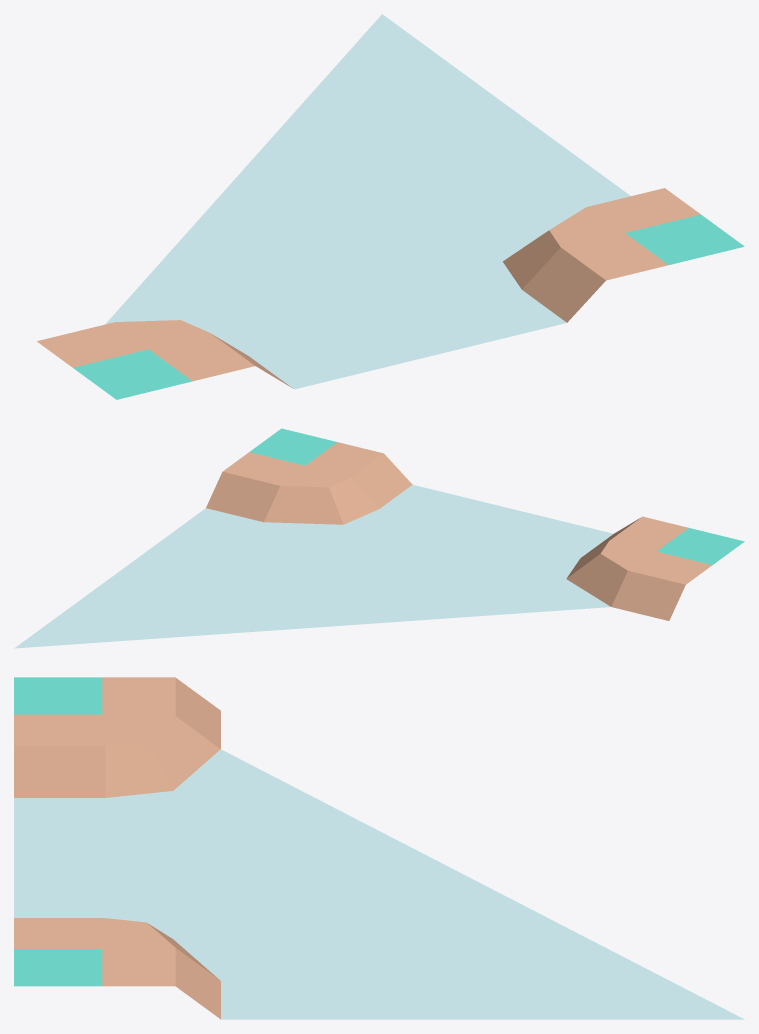
File: ground_riverSideOpen.glb
3 views of the same model, one above another, from view 1: azimuth 30°, elevation 25°; view 2: azimuth 150°, elevation 25°; view 3: azimuth 270°, elevation 25° (orthographic). The views are drawn at different scales.
Parts seen in each view (by area): view 1: ground_riverSideOpen; view 2: ground_riverSideOpen; view 3: ground_riverSideOpen.
Part boxes in pixels (box(x1,y1,x2,y2)): ground_riverSideOpen: box(37, 14, 744, 399); ground_riverSideOpen: box(14, 428, 744, 648); ground_riverSideOpen: box(14, 677, 744, 1019).
Size of the model in its own units: 1 by 0.0501 by 1.
